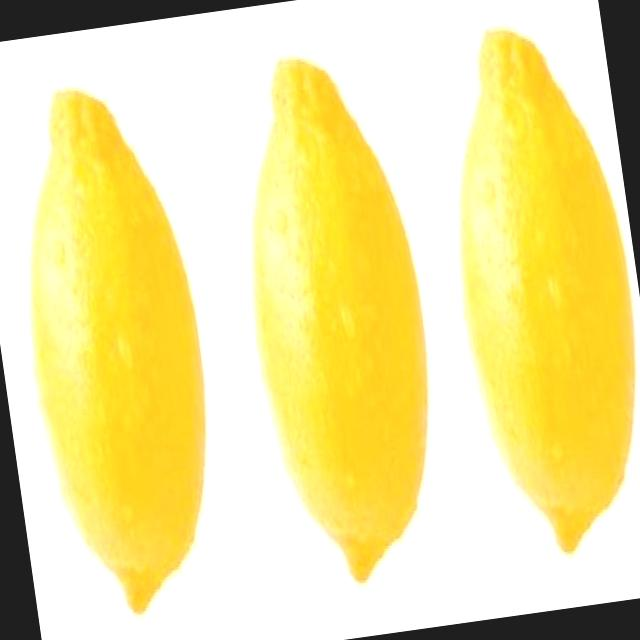lemon: (0, 67, 270, 627), (220, 46, 458, 595), (427, 16, 640, 570)
